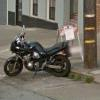Motorcycle: (5, 30, 83, 82)
